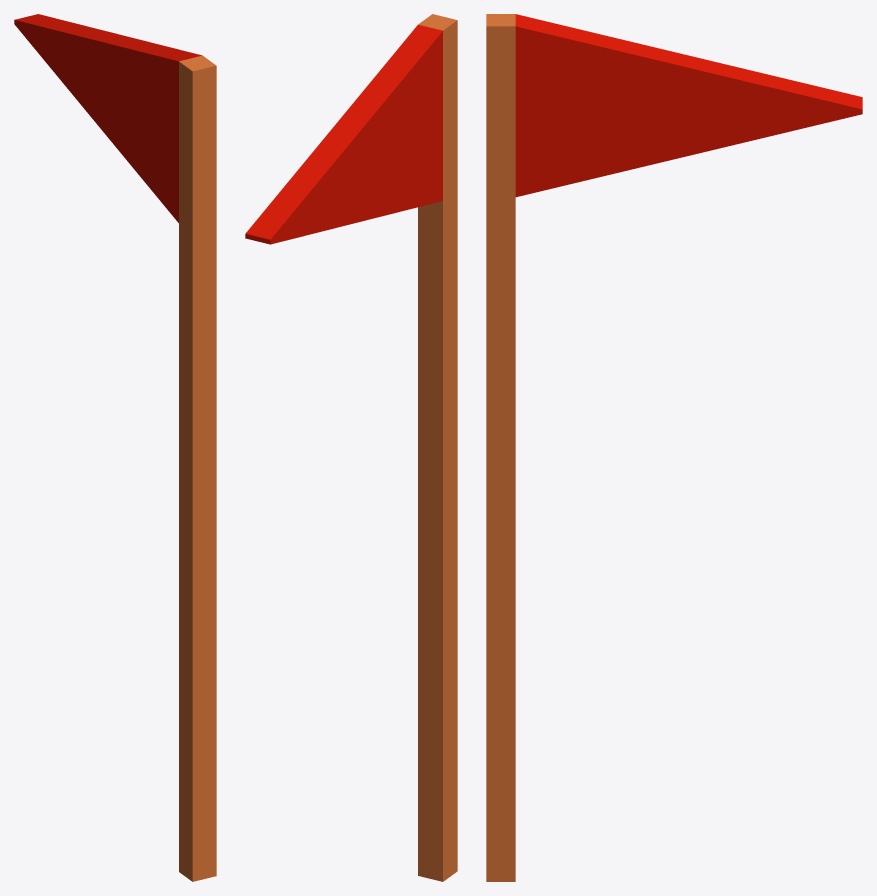
File: pole.fbx
3 renders of one model, left to right at view 1: azimuth 30°, elevation 25°; view 2: azimuth 150°, elevation 25°; view 3: azimuth 270°, elevation 25°, orthographic. The views are drawn at different scales.
Parts seen in each view (by area): view 1: Cube; view 2: Cube; view 3: Cube.
Part boxes in pixels (x1=…): Cube: x1=14, y1=14, x2=216, y2=881; Cube: x1=245, y1=14, x2=457, y2=881; Cube: x1=486, y1=14, x2=862, y2=881.
Size of the model in its own units: 47 by 1525 by 607.
